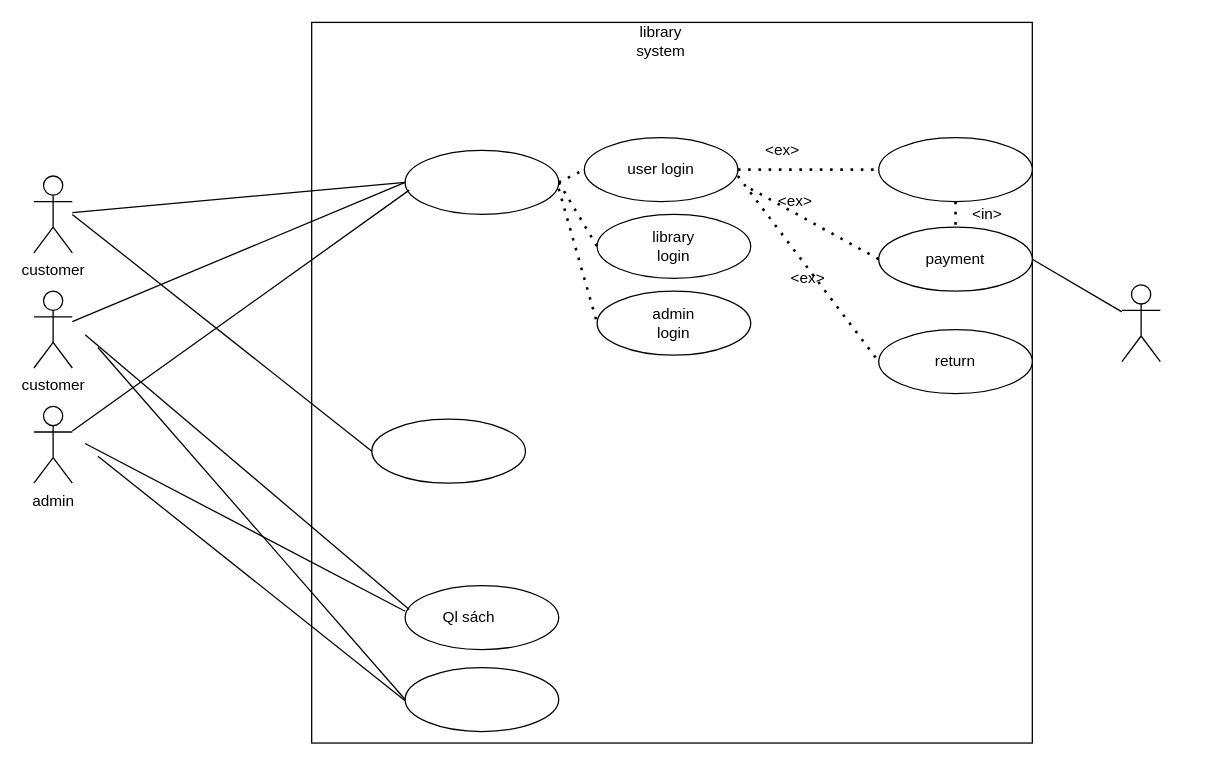
The diagram is 1219 pixels wide and 765 high, and some of its shapes have lost their labels. Here are the shapes that lost their labels. From the top down, the centre of each, then its label:
At [481,181]: "logIn".
At [954,169]: "borrow".
At [1140,323]: "payment system".
At [448,450]: "SingUp".
At [481,699]: "Ql khách".
